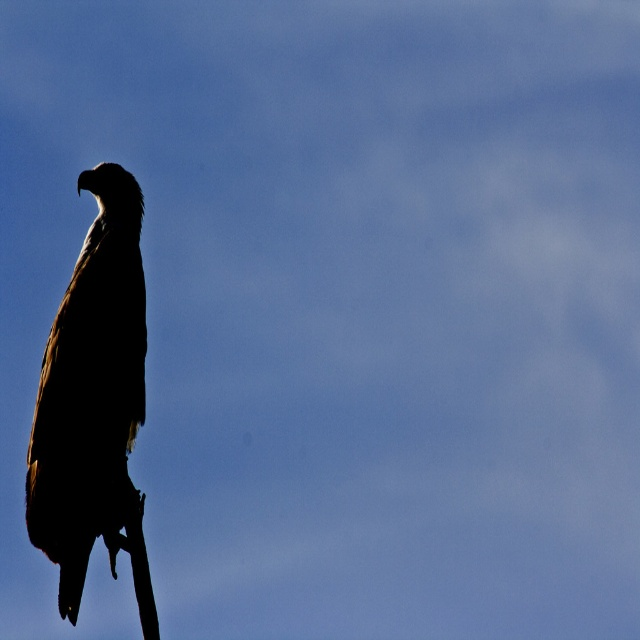Eagle: (25, 162, 148, 626)
